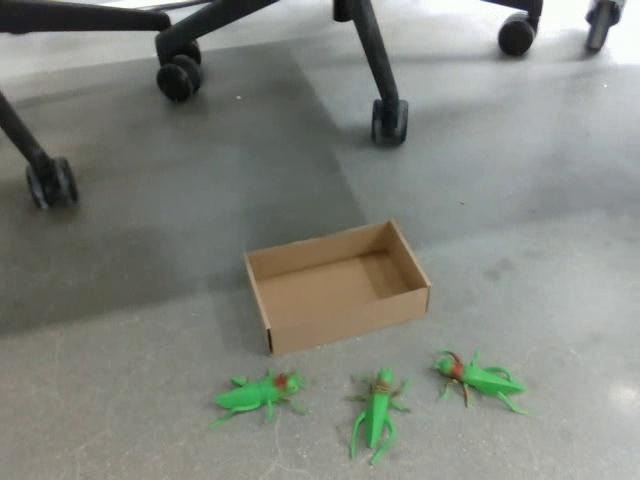box: (242, 218, 431, 356)
grasshopper: (343, 366, 411, 466), (430, 348, 530, 415), (207, 366, 309, 429)
